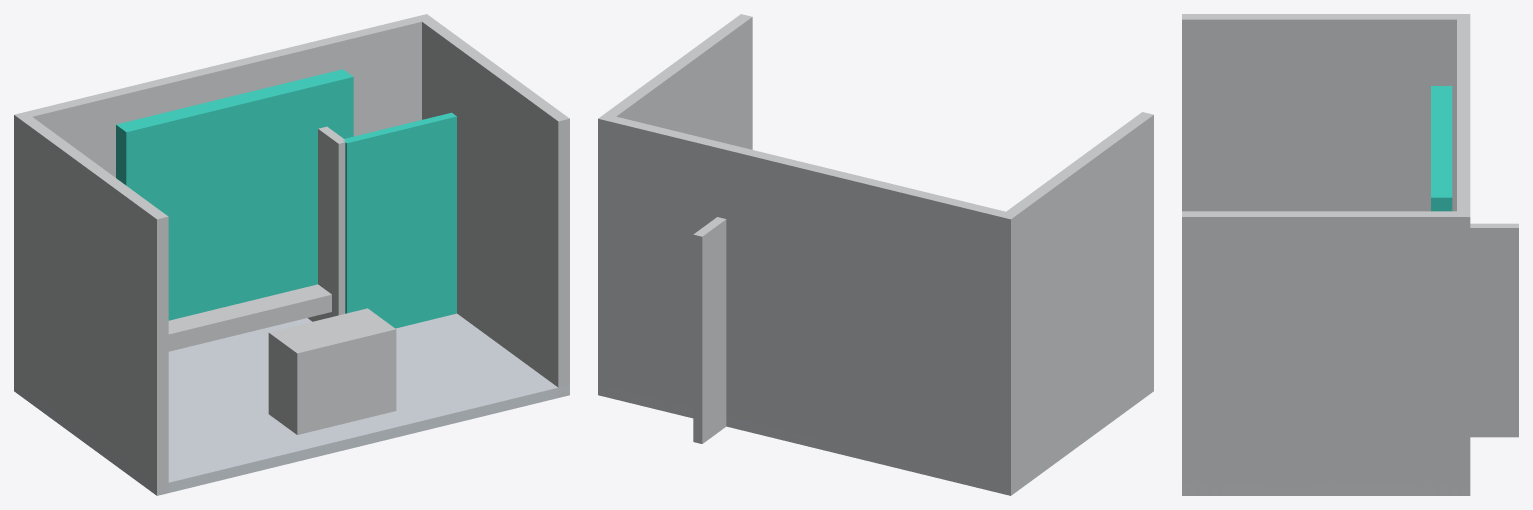
The picture shows the model from 3 angles, left to right: view 1: azimuth 30°, elevation 25°; view 2: azimuth 150°, elevation 25°; view 3: azimuth 270°, elevation 25°; orthographic projection.
Parts seen in each view (by area): view 1: Exhibition Booth Concept; view 2: Exhibition Booth Concept; view 3: Exhibition Booth Concept.
Boxes of the visible parts, x1,y1,x2,y2 form: Exhibition Booth Concept: (14,14,569,495); Exhibition Booth Concept: (598,14,1153,495); Exhibition Booth Concept: (1182,14,1518,495).
Size of the model in its own units: 5 by 3.2 by 3.51.
